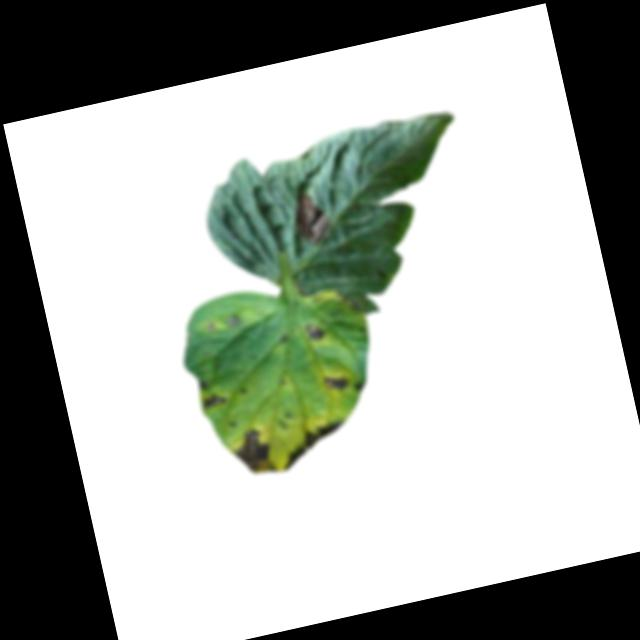Early_blight: (274, 418, 351, 471), (287, 188, 335, 248), (226, 424, 274, 480), (321, 370, 348, 394), (302, 320, 327, 343), (200, 390, 226, 409), (195, 376, 207, 390), (353, 380, 366, 392)
